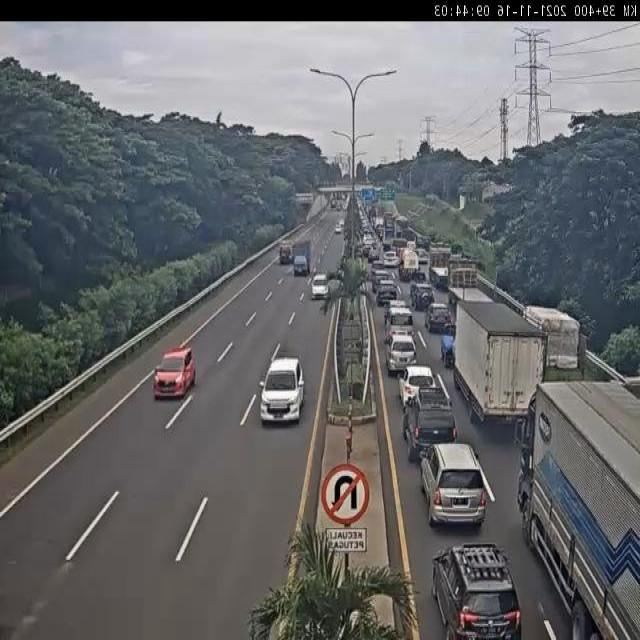Car: (431, 541, 521, 640), (419, 442, 488, 527), (404, 394, 458, 464), (259, 354, 306, 424), (151, 338, 203, 399), (398, 364, 438, 409), (384, 330, 417, 375), (426, 302, 452, 334), (409, 282, 434, 310), (376, 280, 398, 306), (310, 273, 330, 300), (356, 197, 371, 225), (362, 234, 374, 253), (331, 200, 337, 208)
Truck: (526, 381, 640, 640), (451, 298, 545, 433), (290, 230, 316, 271), (274, 232, 292, 266), (383, 213, 395, 236), (375, 224, 384, 241), (355, 244, 363, 258), (340, 193, 347, 201)
